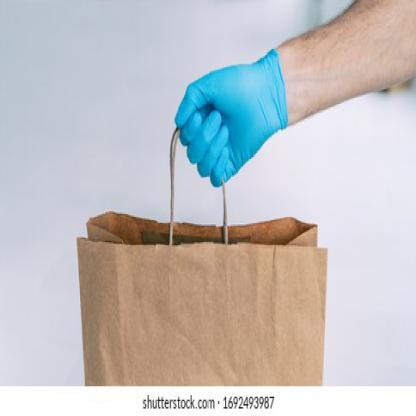glove: (175, 51, 290, 187)
